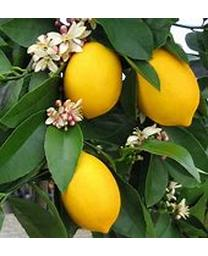lemon: (135, 48, 199, 126), (61, 149, 120, 233), (64, 42, 121, 118)
